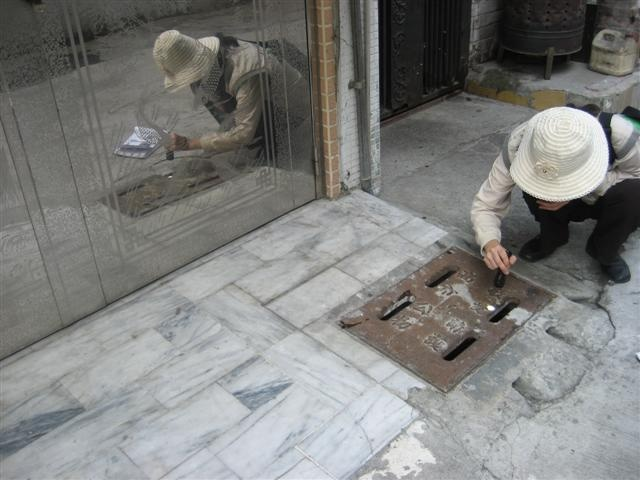bucket: (587, 28, 638, 76)
